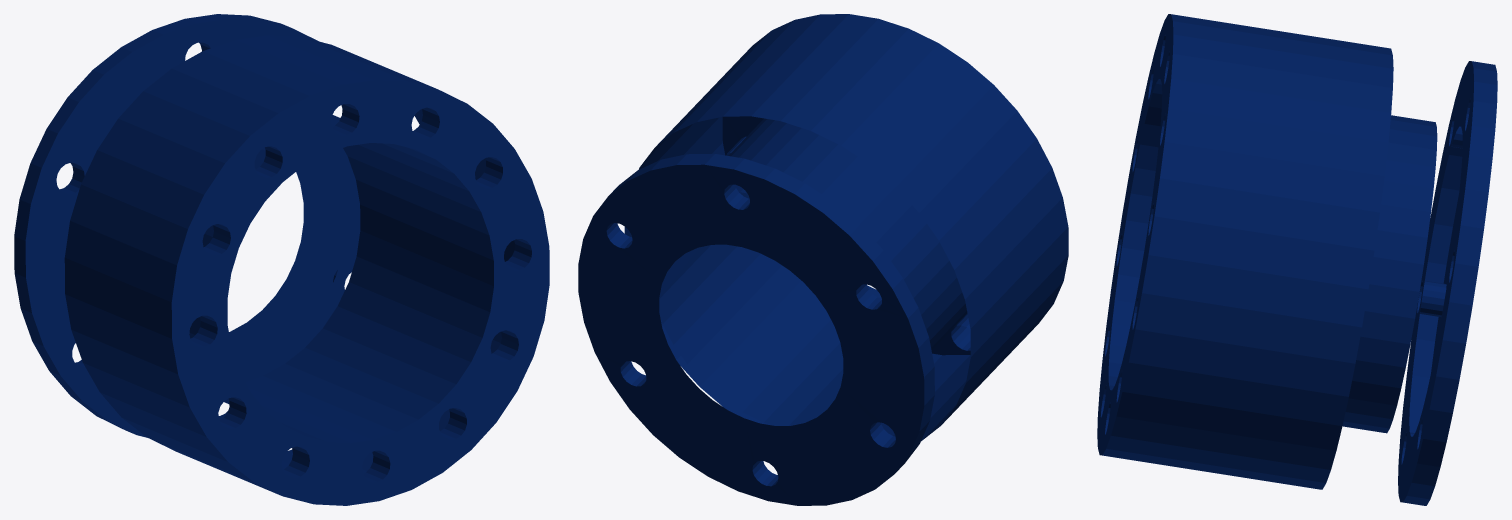
3 renders of one model, left to right at view 1: azimuth 30°, elevation 25°; view 2: azimuth 150°, elevation 25°; view 3: azimuth 270°, elevation 25°, orthographic. The views are drawn at different scales.
Visible parts, largest first — view 1: Mesh.025_Mesh.008_NRG_Quick_Release.001_g3m0.001; view 2: Mesh.025_Mesh.008_NRG_Quick_Release.001_g3m0.001; view 3: Mesh.025_Mesh.008_NRG_Quick_Release.001_g3m0.001.
Boxes of the visible parts, x1,y1,x2,y2 form: Mesh.025_Mesh.008_NRG_Quick_Release.001_g3m0.001: (14, 14, 549, 505); Mesh.025_Mesh.008_NRG_Quick_Release.001_g3m0.001: (578, 14, 1068, 505); Mesh.025_Mesh.008_NRG_Quick_Release.001_g3m0.001: (1097, 14, 1497, 505).
Size of the model in its own units: 0.1234 by 0.137 by 0.1102.
